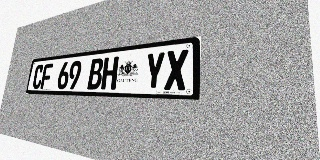6: (56, 61, 71, 89)
9: (67, 60, 82, 89)
B: (87, 58, 104, 89)
C: (32, 64, 44, 89)
F: (40, 63, 53, 89)
H: (101, 56, 119, 90)
X: (164, 49, 188, 90)
Y: (143, 51, 166, 90)
